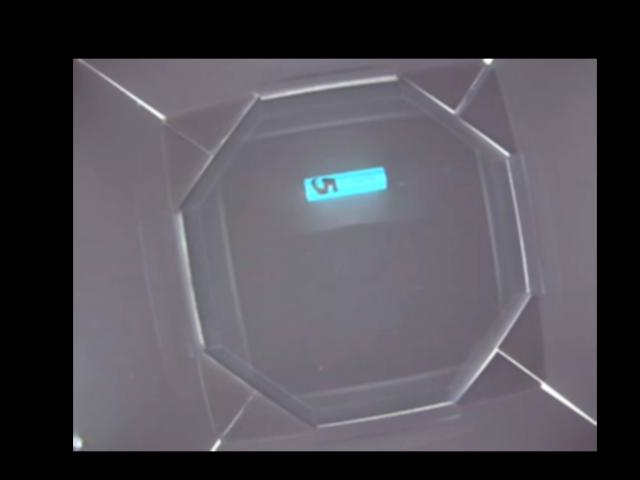Battery: (305, 167, 389, 196)
